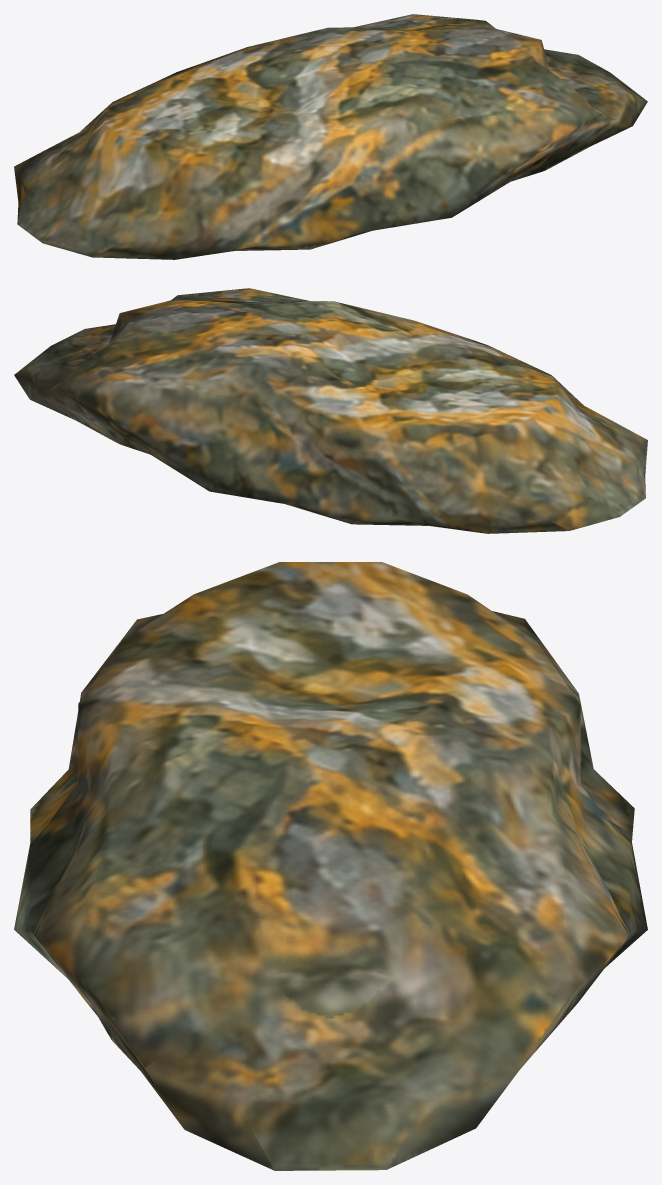
File: item_mm9_10361.glb
3 renders of one model, top to bottom at view 1: azimuth 30°, elevation 25°; view 2: azimuth 150°, elevation 25°; view 3: azimuth 270°, elevation 25°, orthographic. The views are drawn at different scales.
Visible parts, largest first — view 1: d10361; view 2: d10361; view 3: d10361.
Boxes of the visible parts, x1=… form: d10361: x1=14, y1=14, x2=647, y2=259; d10361: x1=14, y1=288, x2=647, y2=533; d10361: x1=14, y1=562, x2=647, y2=1170.
Bounding box in the file's own units: 57.6 × 9.15 × 28.46.
1 material, 1 textured.
